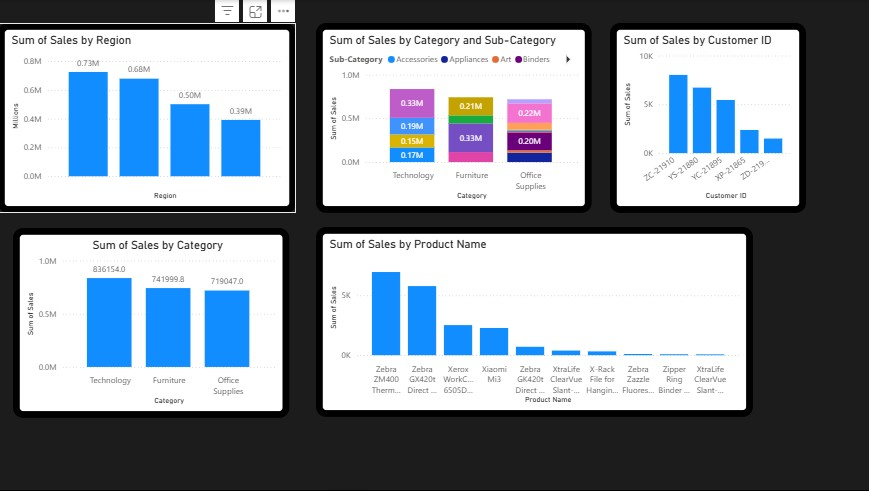

This screenshot's page, from the dashboard's own definition file:
{"tool":"powerbi","page":{"name":"Page 3","canvas":[1280,720],"ordinal":2},"visuals":[{"type":"columnChart","fields":{"Category":["Sample - Superstore.Region"],"Y":["Sum(Sample - Superstore.Sales)"]},"box":[0,33.8,437.9,279.2],"z":0},{"type":"columnChart","fields":{"Category":["Sample - Superstore.Category"],"Y":["Sum(Sample - Superstore.Sales)"]},"box":[22,335,405.6,279.2],"z":1000},{"type":"columnChart","fields":{"Category":["Sample - Superstore.Category"],"Y":["Sum(Sample - Superstore.Sales)"],"Series":["Sample - Superstore.Sub-Category"]},"box":[467.3,33.9,404.7,279.4],"z":2000},{"type":"clusteredColumnChart","fields":{"Category":["Sample - Superstore.Product Name"],"Y":["Sum(Sample - Superstore.Sales)"]},"box":[467.3,333.5,641.7,279.4],"z":3000},{"type":"columnChart","fields":{"Category":["Sample - Superstore.Customer ID"],"Y":["Sum(Sample - Superstore.Sales)"]},"box":[936.3,20.3,287.8,279.4],"z":4000}]}

Visuals, with their boxes in screenshot pixels (x1, y1, x2, y2), scaled from the page's 1280x720 canvas onto the 869x491 screenshot:
columnChart - Sample - Superstore.Region x Sum(Sample - Superstore.Sales): [x1=0, y1=23, x2=297, y2=213]
columnChart - Sample - Superstore.Category x Sum(Sample - Superstore.Sales): [x1=15, y1=228, x2=290, y2=419]
columnChart - Sample - Superstore.Category x Sum(Sample - Superstore.Sales): [x1=317, y1=23, x2=592, y2=214]
clusteredColumnChart - Sample - Superstore.Product Name x Sum(Sample - Superstore.Sales): [x1=317, y1=227, x2=753, y2=418]
columnChart - Sample - Superstore.Customer ID x Sum(Sample - Superstore.Sales): [x1=636, y1=14, x2=831, y2=204]
